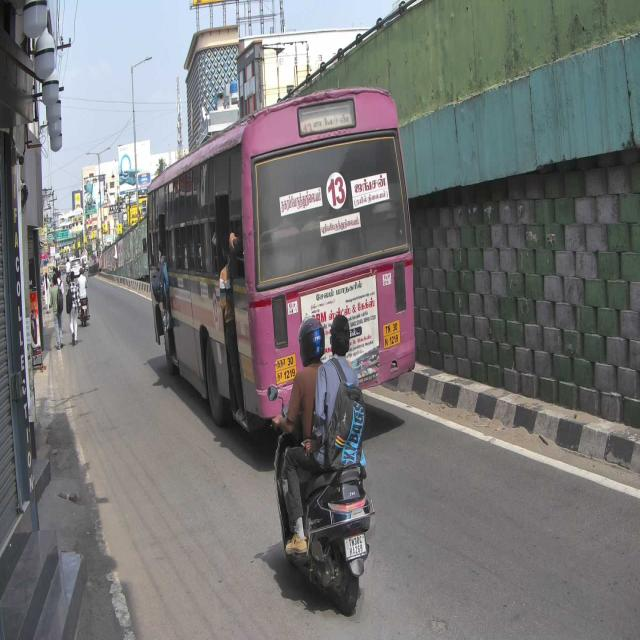double_rider: (272, 310, 374, 620)
